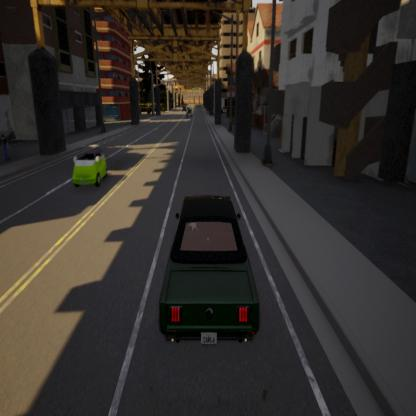Cars: (154, 177, 264, 364), (64, 116, 112, 204), (180, 102, 188, 115), (187, 102, 193, 118)
